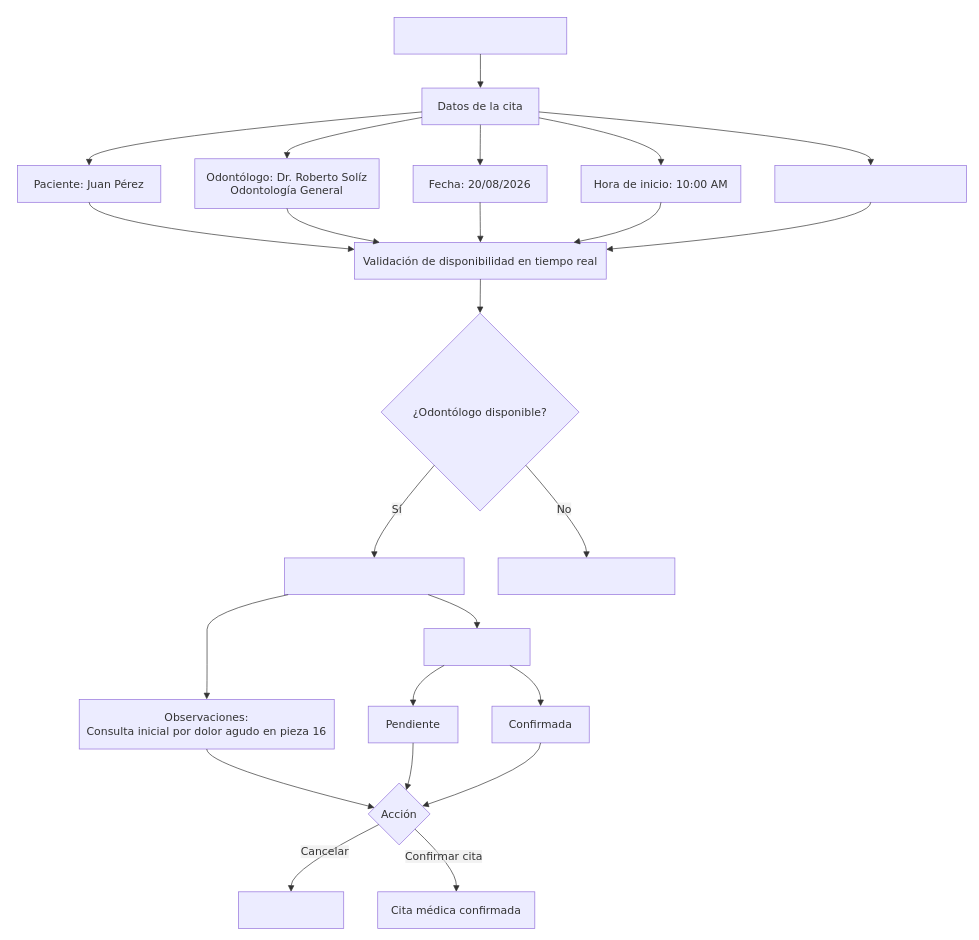
Image size: 979x940. Some labels were removed from this diagram. The shapes that lost their labels are listed below. From the top down, each one's centre as x and y in pixels, then its label:
[480,35]: Agendar nueva cita médica
[870,183]: Duración estimada: 45 minutos
[374,576]: Disponible: 10:00 - 10:45 AM
[586,576]: Mostrar conflicto de horario
[476,646]: Estado inicial
[291,910]: Cancelar cita
